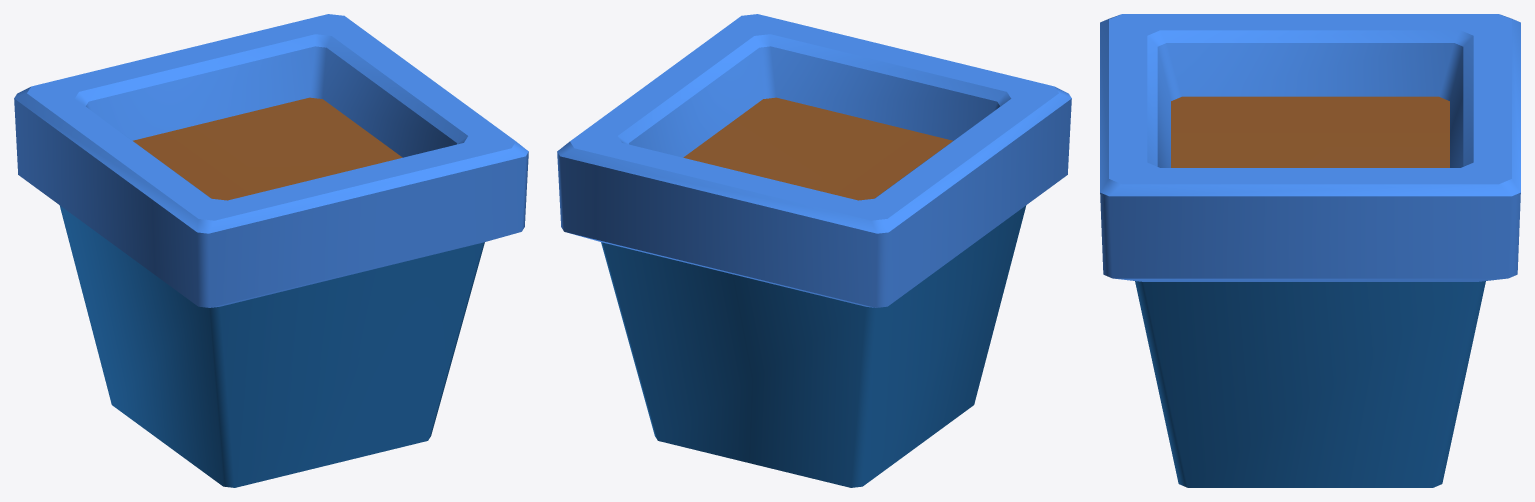
Rendered from PlantPot_1_D.fbx.
The picture shows the model from 3 angles, left to right: view 1: azimuth 30°, elevation 25°; view 2: azimuth 150°, elevation 25°; view 3: azimuth 270°, elevation 25°; orthographic projection. The views are drawn at different scales.
Parts seen in each view (by area): view 1: PlantPot_1_D; view 2: PlantPot_1_D; view 3: PlantPot_1_D.
Part boxes in pixels (x1=…): PlantPot_1_D: x1=14, y1=14, x2=528, y2=487; PlantPot_1_D: x1=557, y1=14, x2=1071, y2=487; PlantPot_1_D: x1=1100, y1=14, x2=1520, y2=487.
Size of the model in its own units: 27.48 by 24 by 27.48.
